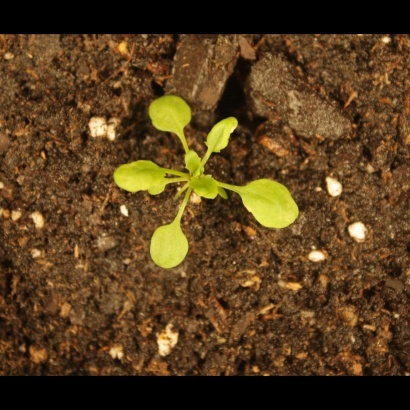leaf: (236, 174, 300, 236), (146, 217, 199, 274), (104, 156, 171, 197), (145, 92, 197, 140), (200, 112, 239, 159), (189, 172, 222, 204), (179, 149, 206, 177), (147, 175, 170, 198)
